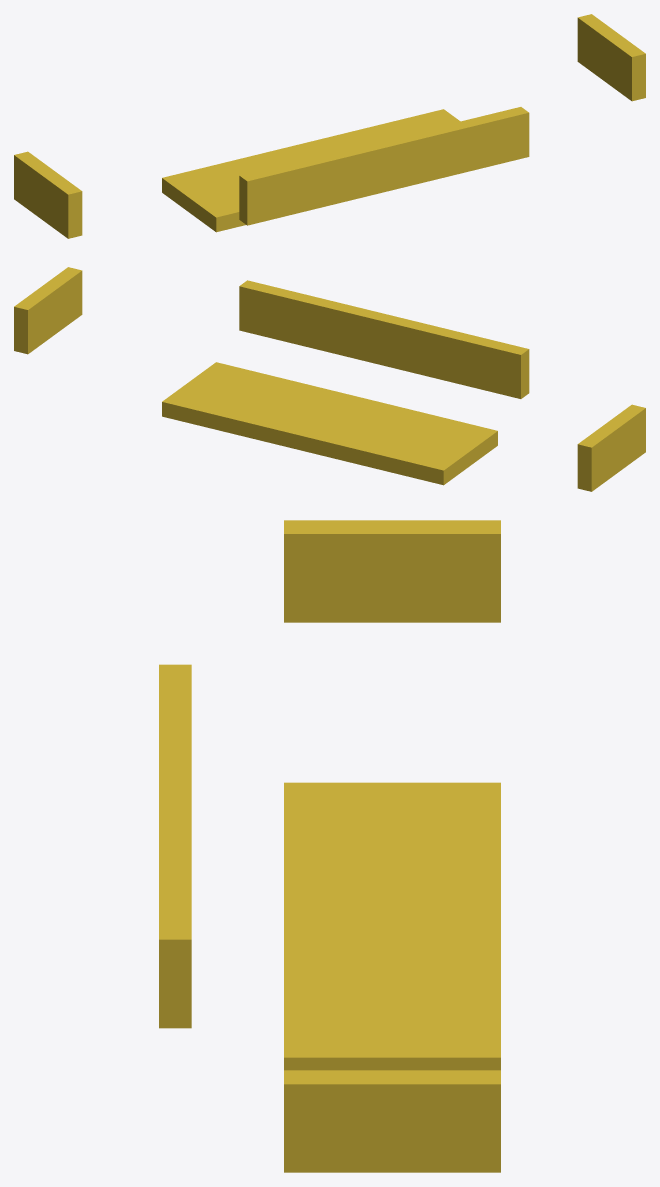
The model's file is balcony.glb.
The picture shows the model from 3 angles, top to bottom: view 1: azimuth 30°, elevation 25°; view 2: azimuth 150°, elevation 25°; view 3: azimuth 270°, elevation 25°; orthographic projection. The views are drawn at different scales.
Visible parts, largest first — view 1: balcony_front, balcony_floor, balcony_side_-0.5, balcony_side_0.5; view 2: balcony_floor, balcony_front, balcony_side_-0.5, balcony_side_0.5; view 3: balcony_floor, balcony_side_-0.5, balcony_side_0.5, balcony_front.
Boxes of the visible parts, bbox=[...] form: balcony_front: bbox=[239, 107, 529, 225]; balcony_floor: bbox=[162, 109, 460, 232]; balcony_side_-0.5: bbox=[14, 151, 82, 238]; balcony_side_0.5: bbox=[577, 14, 645, 101]; balcony_floor: bbox=[162, 362, 497, 485]; balcony_front: bbox=[239, 280, 529, 398]; balcony_side_-0.5: bbox=[577, 404, 645, 491]; balcony_side_0.5: bbox=[14, 267, 82, 354]; balcony_floor: bbox=[284, 782, 500, 1070]; balcony_side_-0.5: bbox=[284, 520, 500, 622]; balcony_side_0.5: bbox=[284, 1070, 500, 1172]; balcony_front: bbox=[159, 664, 191, 1028].
Size of the model in its own units: 1.03 by 0.125 by 0.2625.
